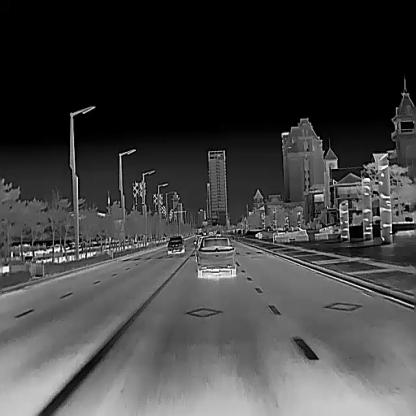car: (194, 233, 236, 276), (274, 225, 307, 238), (166, 233, 184, 254), (254, 227, 278, 238)
